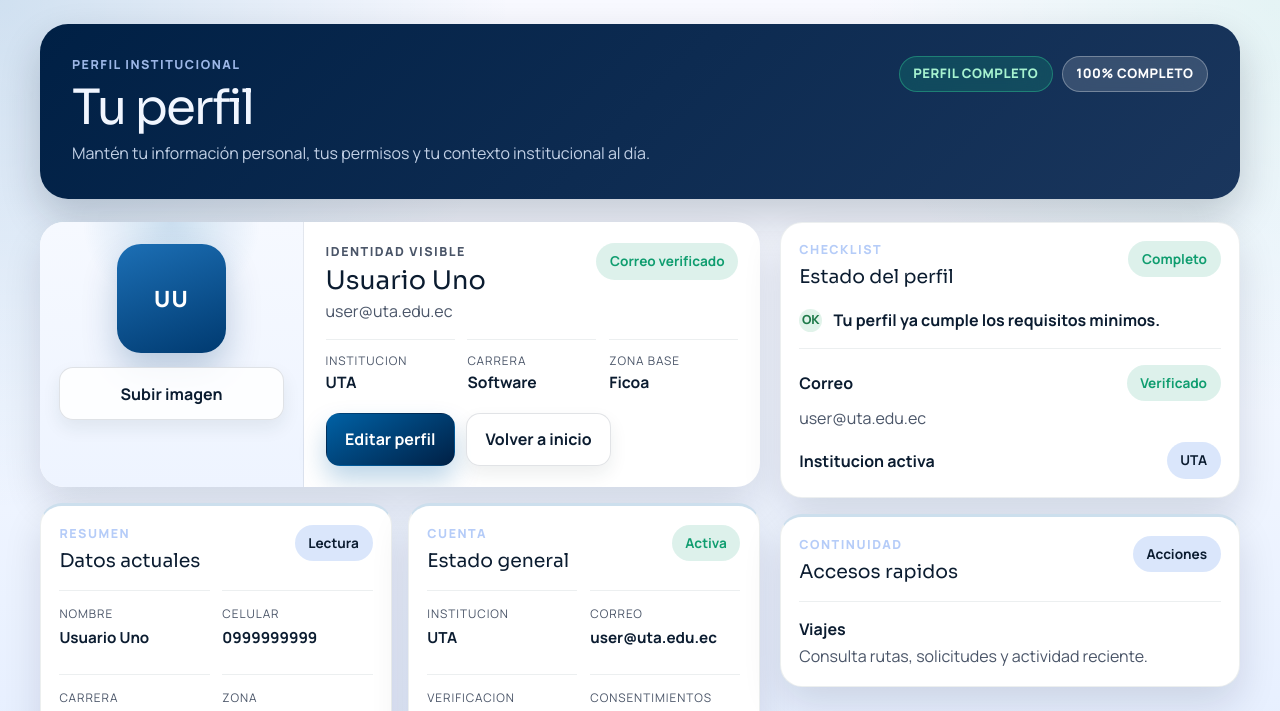
Test: ProfileOnboardingForm › shows an error toast when profile update fails
Click the button "Editar perfil" at (390, 439), box [326,413,455,466]
(page scrolled)
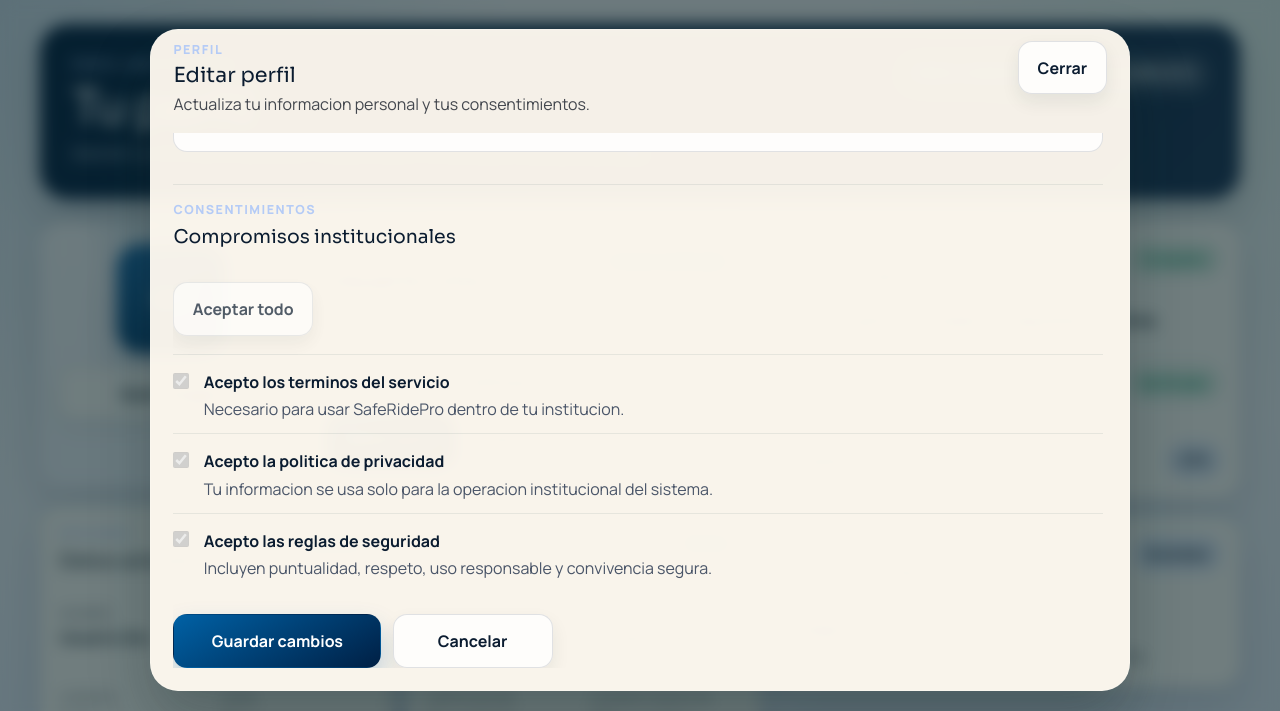
Click the button "Guardar cambios" at (277, 641), box [173,614,381,668]
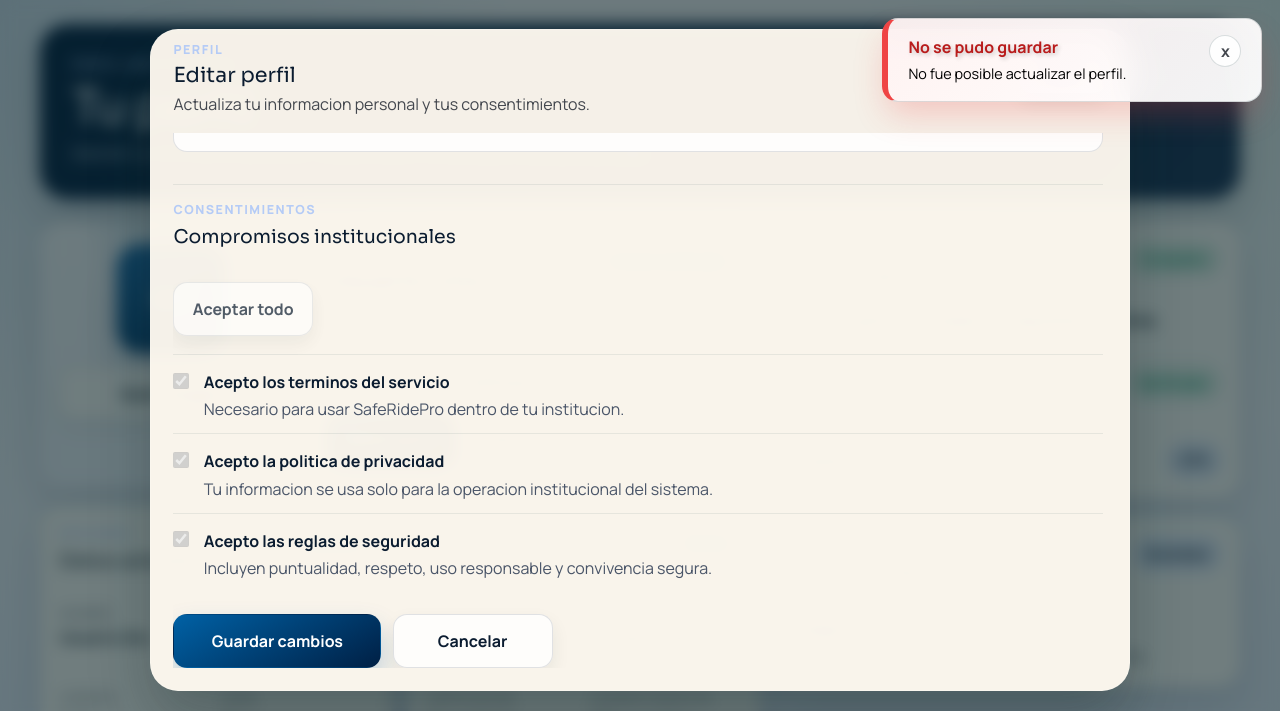
Expected: the text "No fue posible actualizar el perfil." is shown, [908,64,1126,85]
